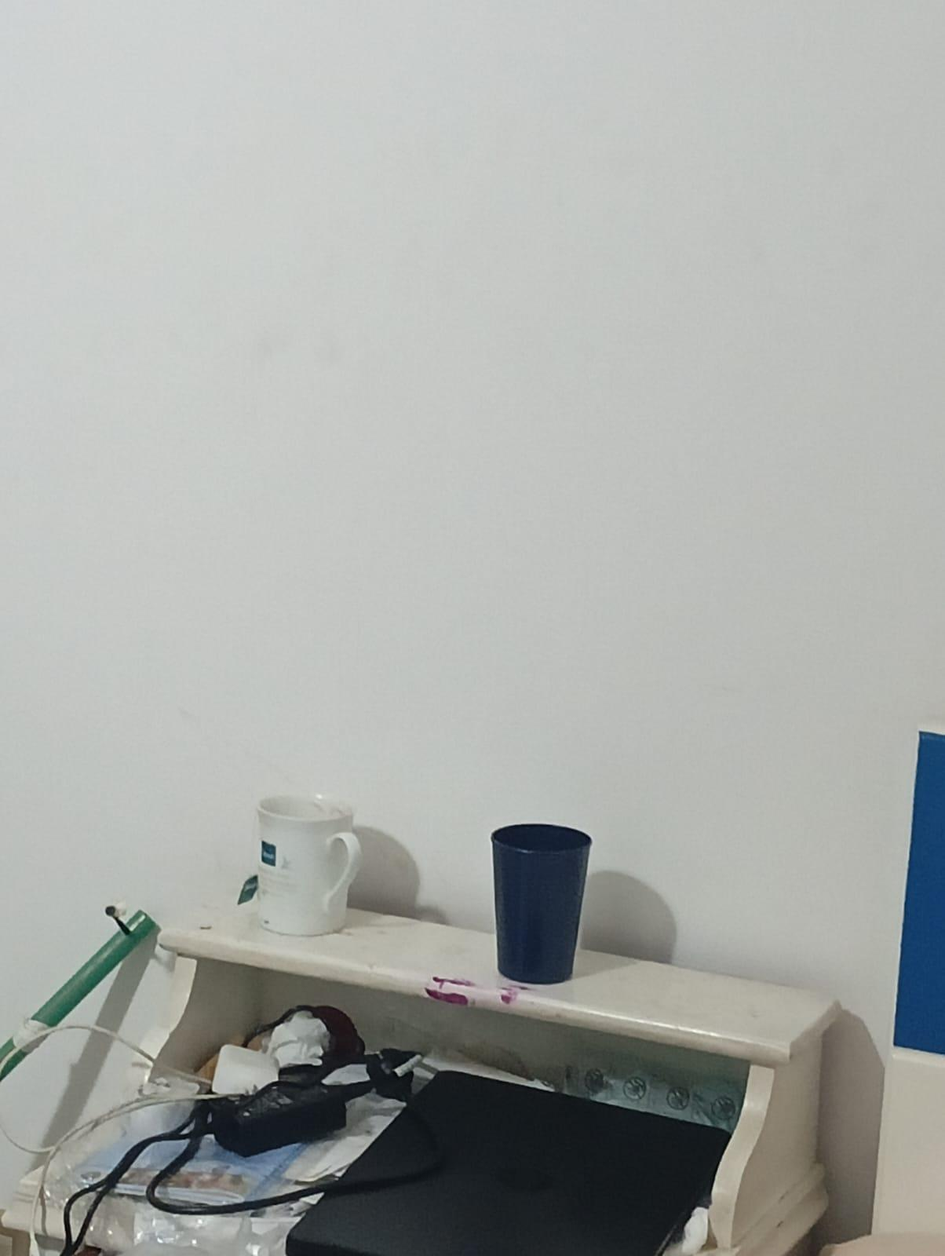cup: (491, 823, 590, 984), (257, 796, 361, 935)
